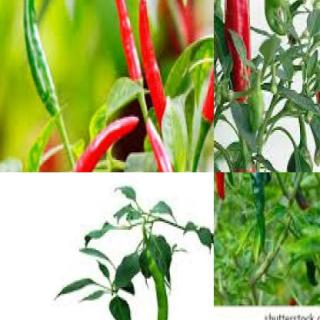green_chilli: (23, 0, 62, 123), (137, 248, 168, 319), (246, 172, 269, 255), (262, 0, 290, 35), (246, 95, 266, 130), (303, 260, 319, 288), (225, 172, 236, 190)
